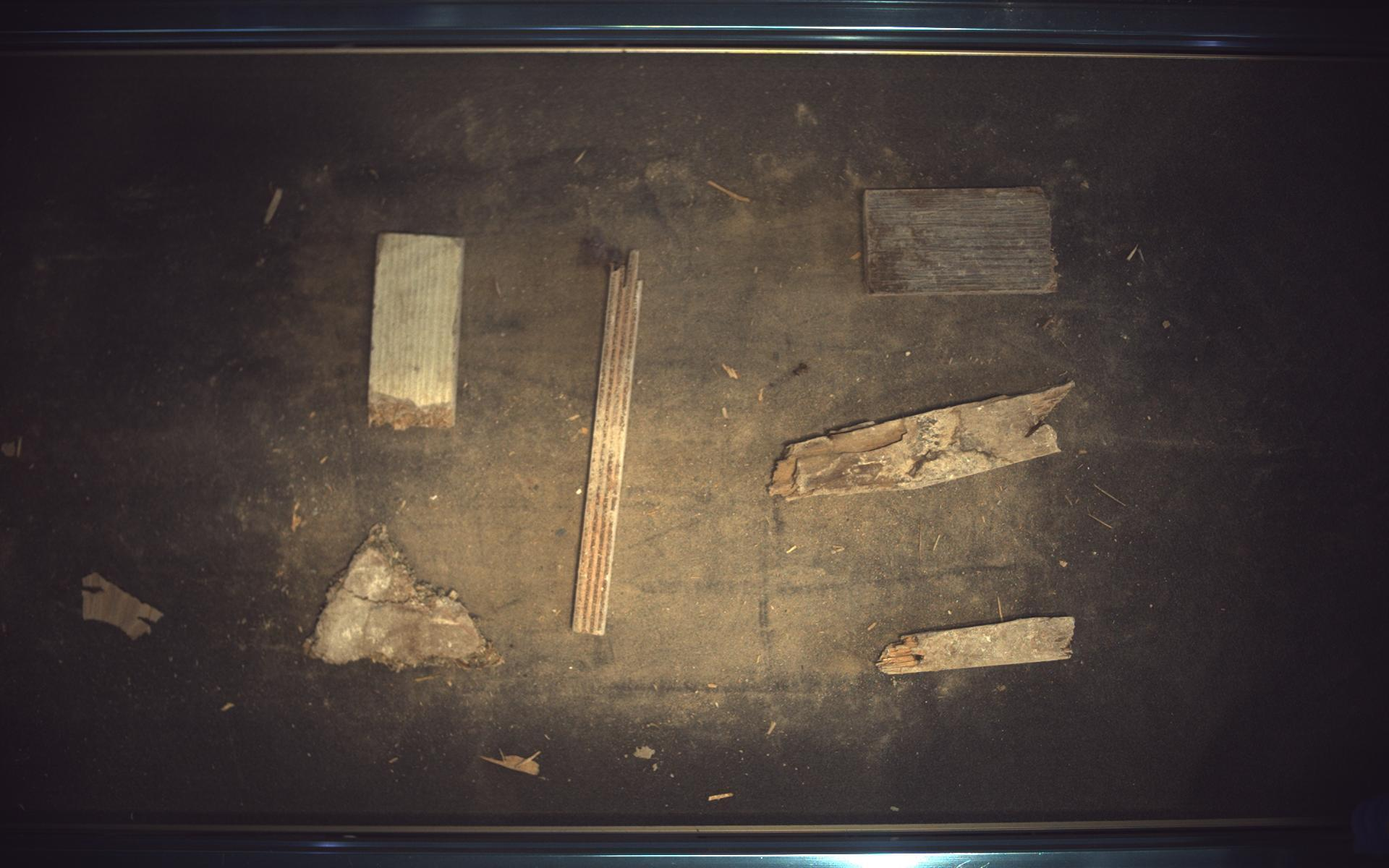wood: (770, 382, 1076, 501), (303, 525, 503, 671), (572, 250, 643, 636), (865, 186, 1060, 294), (368, 232, 464, 430), (878, 617, 1077, 676)
